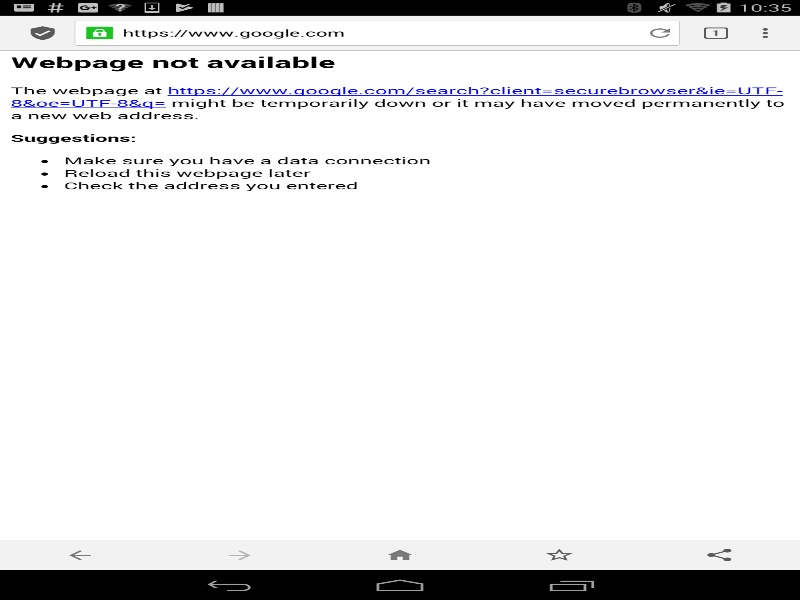Button: (0, 540, 160, 570), (160, 540, 320, 570), (479, 540, 639, 570), (639, 540, 799, 570), (320, 540, 479, 570)
Input: (74, 20, 680, 45)
